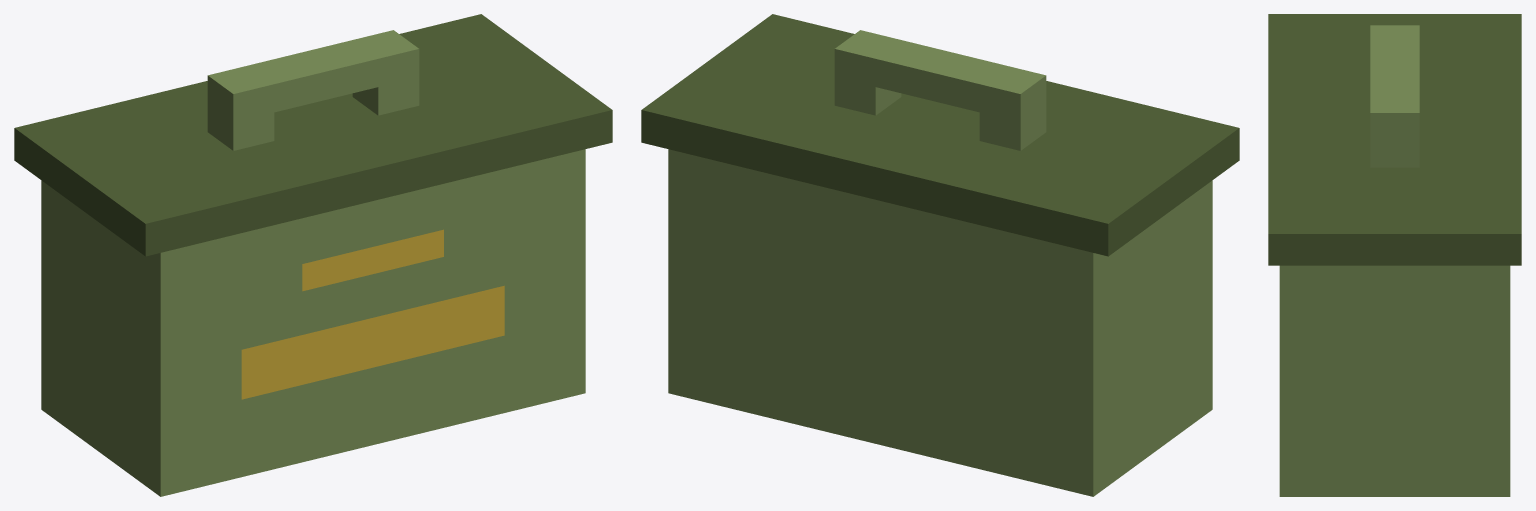
The model's file is AmmoCase.fbx.
3 renders of one model, left to right at view 1: azimuth 30°, elevation 25°; view 2: azimuth 150°, elevation 25°; view 3: azimuth 270°, elevation 25°, orthographic. The views are drawn at different scales.
Parts seen in each view (by area): view 1: AmmoCase; view 2: AmmoCase; view 3: AmmoCase.
Part boxes in pixels (bbox=[...]): AmmoCase: bbox=[14, 14, 612, 496]; AmmoCase: bbox=[641, 14, 1239, 496]; AmmoCase: bbox=[1268, 14, 1521, 496].
Size of the model in its own units: 0.5353 by 0.3717 by 0.2603.
